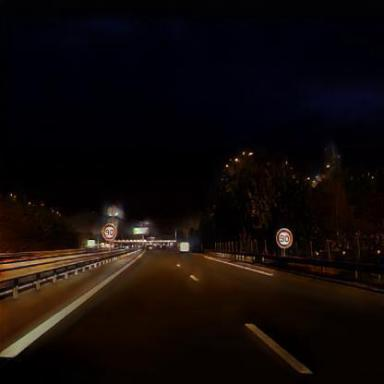Speed_limit_90: (278, 229, 294, 247), (105, 225, 118, 241)
